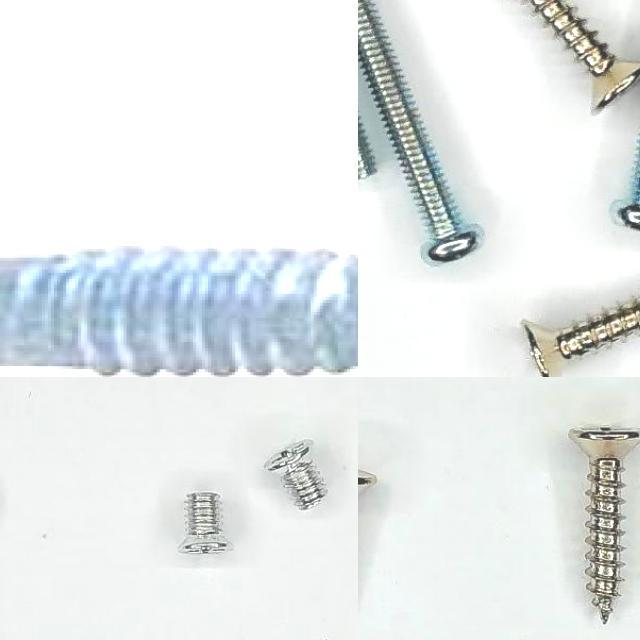Screw: (0, 246, 358, 377), (358, 0, 475, 262), (568, 427, 640, 624), (526, 0, 640, 112), (524, 300, 640, 377), (264, 439, 326, 510), (177, 491, 232, 554)
